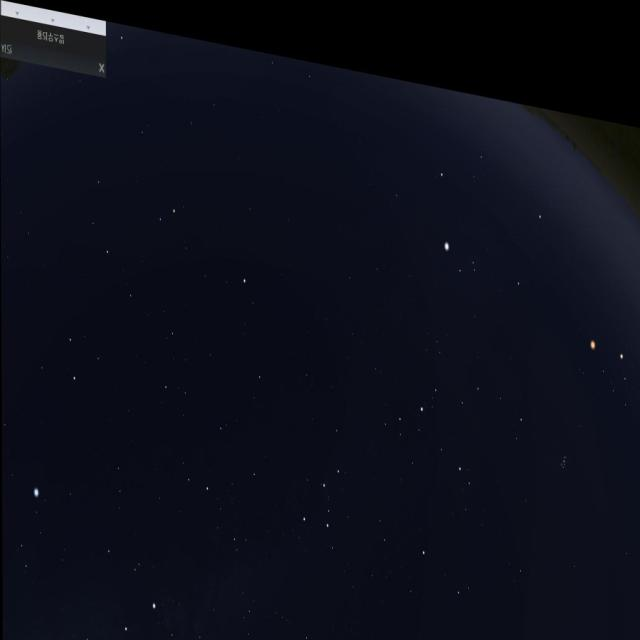pleiades: (556, 400, 576, 458)
